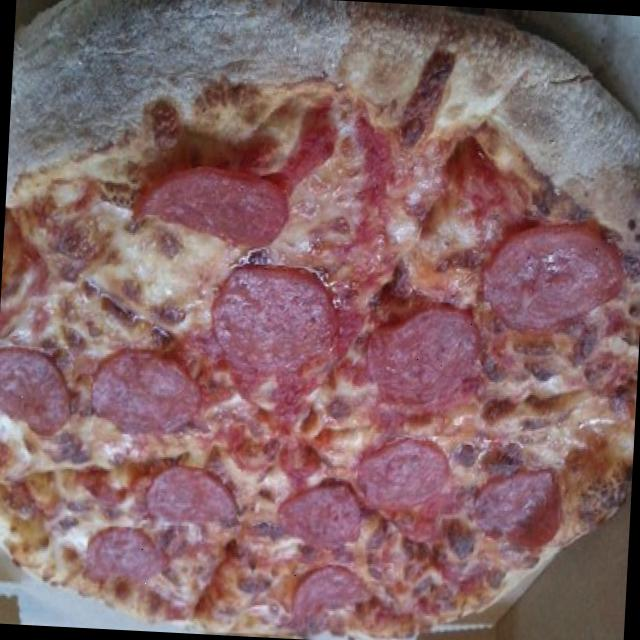pepperoni: (482, 214, 628, 344), (207, 262, 342, 383), (361, 298, 484, 422), (134, 161, 290, 255), (91, 347, 208, 441), (472, 463, 566, 550), (354, 432, 453, 511), (274, 476, 366, 560), (0, 345, 73, 439), (147, 464, 241, 531), (86, 525, 164, 589), (292, 563, 365, 624)
pizza: (0, 0, 640, 637)
